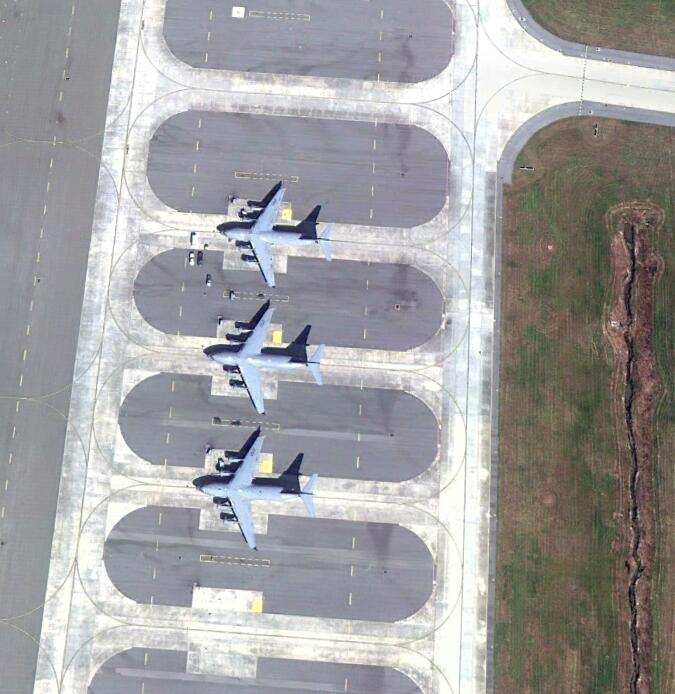A3: (194, 433, 318, 552), (206, 307, 325, 415), (219, 184, 336, 291)
